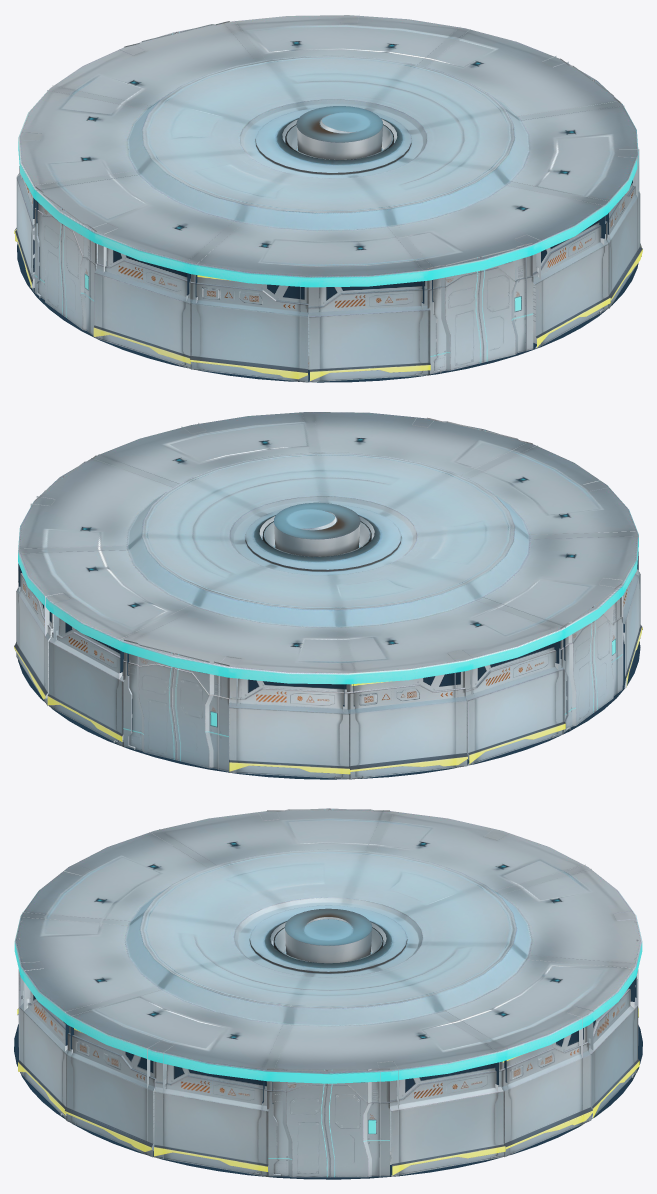
File: room3.glb
The picture shows the model from 3 angles, top to bottom: view 1: azimuth 30°, elevation 25°; view 2: azimuth 150°, elevation 25°; view 3: azimuth 270°, elevation 25°; orthographic projection.
Parts seen in each view (by area): view 1: Scifi_Ceiling01.001_Baked, Scifi_Wall01.001_Baked, Scifi_Door.001_Baked, Scifi_Wall02.001_Baked, Scifi_Floor.003_Baked, Scifi_Pilllar01.001_Baked, Scifi_Pilllar02.001_Baked; view 2: Scifi_Ceiling01.001_Baked, Scifi_Wall01.001_Baked, Scifi_Door.001_Baked, Scifi_Wall02.001_Baked, Scifi_Floor.003_Baked, Scifi_Pilllar01.001_Baked, Scifi_Pilllar02.001_Baked; view 3: Scifi_Ceiling01.001_Baked, Scifi_Wall01.001_Baked, Scifi_Wall02.001_Baked, Scifi_Door.001_Baked, Scifi_Floor.003_Baked, Scifi_Pilllar02.001_Baked, Scifi_Pilllar01.001_Baked.
Part boxes in pixels (x1,y1,x2,y2): Scifi_Ceiling01.001_Baked: (18, 15, 638, 287); Scifi_Wall01.001_Baked: (15, 175, 641, 382); Scifi_Door.001_Baked: (34, 21, 621, 374); Scifi_Wall02.001_Baked: (14, 166, 642, 382); Scifi_Floor.003_Baked: (17, 244, 638, 382); Scifi_Pilllar01.001_Baked: (30, 21, 624, 376); Scifi_Pilllar02.001_Baked: (20, 15, 639, 369); Scifi_Ceiling01.001_Baked: (18, 412, 638, 684); Scifi_Wall01.001_Baked: (15, 572, 641, 779); Scifi_Door.001_Baked: (35, 417, 622, 771); Scifi_Wall02.001_Baked: (14, 571, 642, 779); Scifi_Floor.003_Baked: (18, 623, 640, 779); Scifi_Pilllar01.001_Baked: (18, 443, 639, 778); Scifi_Pilllar02.001_Baked: (30, 418, 623, 769); Scifi_Ceiling01.001_Baked: (14, 808, 642, 1083); Scifi_Wall01.001_Baked: (17, 988, 639, 1176); Scifi_Wall02.001_Baked: (64, 1026, 592, 1157); Scifi_Door.001_Baked: (18, 808, 638, 1177); Scifi_Floor.003_Baked: (14, 1024, 642, 1179); Scifi_Pilllar02.001_Baked: (20, 813, 636, 1176); Scifi_Pilllar01.001_Baked: (20, 827, 636, 1175).
Bounding box in the file's own units: 79.76 × 18.03 × 79.76.
12 materials, 12 textured.
